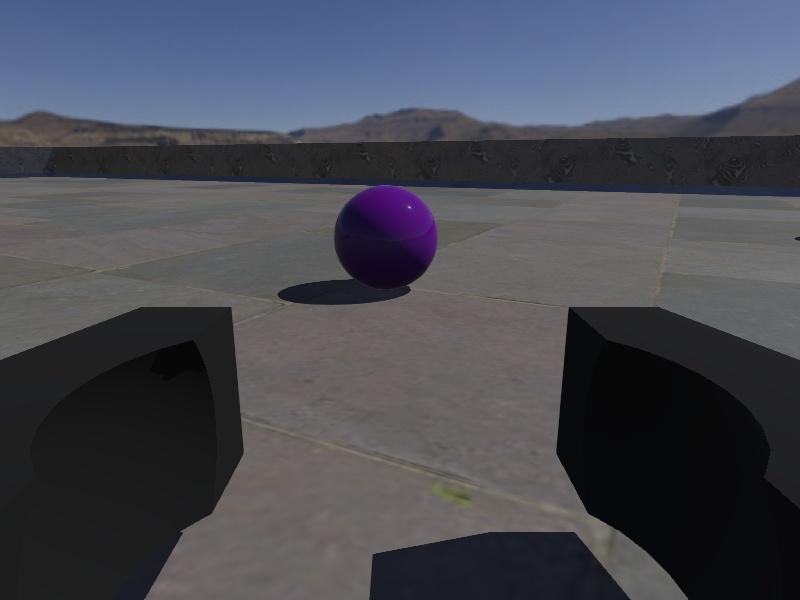violet ball: (335, 185, 438, 291)
